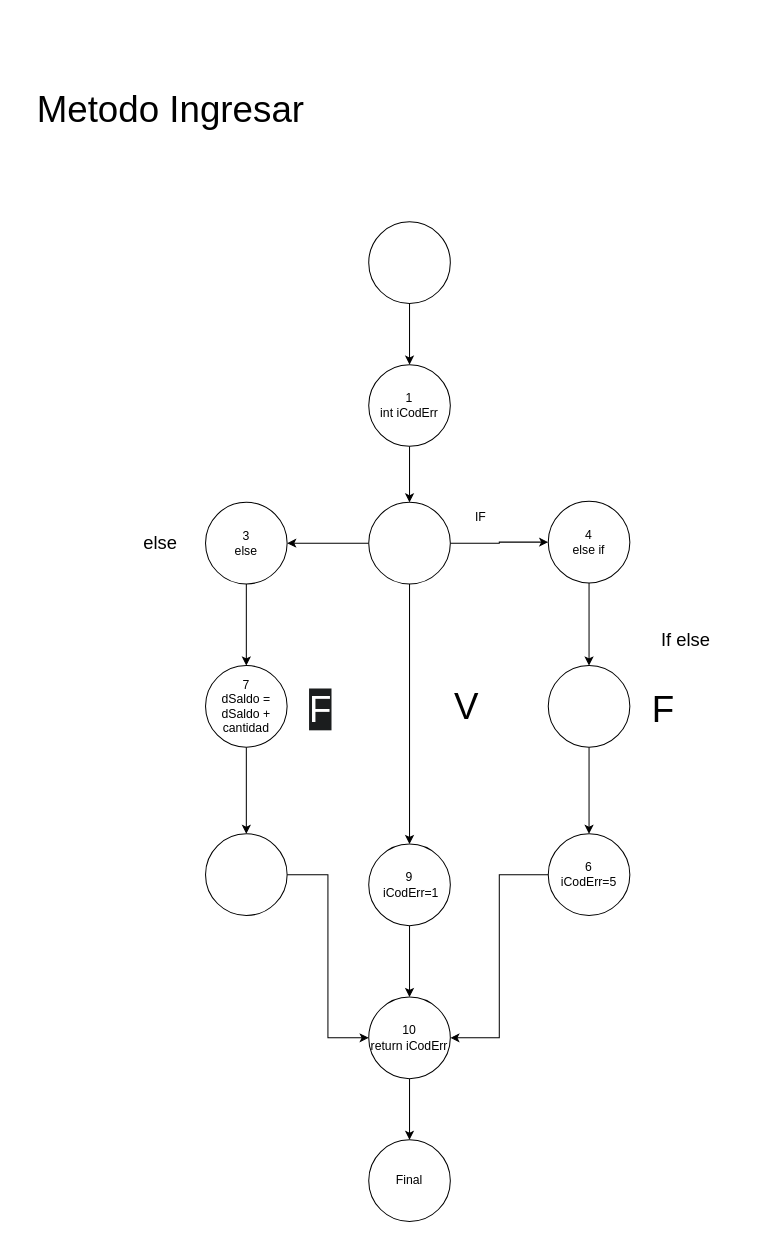
This 759x1239 diagram has some shape labels left out. The box of each missing label's shape, as (x1, y1, x2, y2) in pixels:
2 if: (368, 501, 450, 584)
5 Mensaje: (547, 665, 630, 747)
8 iCodErr=0: (205, 833, 287, 915)
Inicio: (368, 221, 450, 303)
